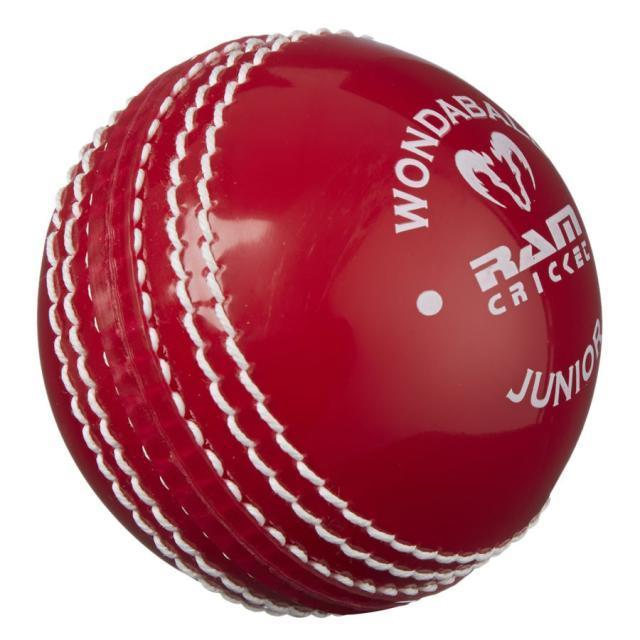cricket ball: (37, 27, 603, 619)
